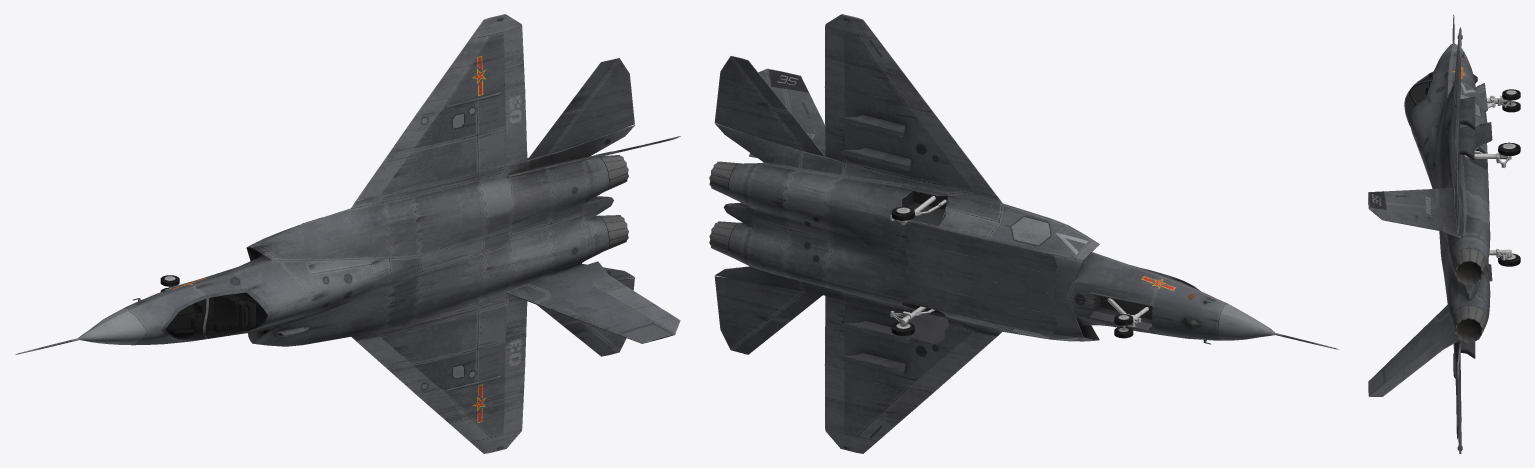
Rendered from shenyang_j-35.fbx.
3 views of the same model, side by side, from view 1: azimuth 30°, elevation 25°; view 2: azimuth 150°, elevation 25°; view 3: azimuth 270°, elevation 25° (orthographic). The views are drawn at different scales.
Parts seen in each view (by area): view 1: J35_Hull_LOD0_34_71, J35_Back_Wing_R_LOD0_28_59, J35_Wing_R_LOD0_21_45, J35_Wing_L_LOD0_16_35, J35_Glass_LOD0_23_49, J35_Slats_R_LOD0_17_37, J35_Slats_L_LOD0_1_5, J35_Back_Wing_L_LOD0_19_41, J35_Flaps_R_01_LOD0_11_25, J35_Driver_L_LOD0_24_51, J35_Flaps_L_01_LOD0_32_67, J35_Flaps_R_02_LOD0_3_9 (+4 smaller); view 2: J35_Hull_LOD0_34_71, J35_Back_Wing_R_LOD0_28_59, J35_Back_Wing_L_LOD0_19_41, J35_Wing_R_LOD0_21_45, J35_Wing_L_LOD0_16_35, J35_Hatch_R_02_LOD0_13_29, J35_Hatch_L_02_LOD0_18_39, J35_Hatch_L_03_LOD0_27_57, J35_Hatch_R_03_LOD0_31_65, J35_Slats_R_LOD0_17_37, J35_Slats_L_LOD0_1_5, J35_Flaps_L_01_LOD0_32_67 (+6 smaller); view 3: J35_Hull_LOD0_34_71, J35_Engine_L_LOD0.001_33_69, J35_Engine_R_LOD0.001_7_17, J35_Driver_L_LOD0_24_51, J35_Driver_R_LOD0_8_19, J35_Glass_LOD0_23_49, J35_Hatch_R_04_LOD0_0_3, J35_Chassis_Front_Wheel_F_01_LOD0_9_21, J35_Frame_LOD0_6_15, J35_Wing_R_LOD0_21_45, J35_Chassis_R_01_LOD0_2_7, J35_Flaps_R_01_LOD0_11_25 (+10 smaller).
Part boxes in pixels (<box>): J35_Hull_LOD0_34_71: <box>15,91,675,392</box>; J35_Back_Wing_R_LOD0_28_59: <box>527,58,634,159</box>; J35_Wing_R_LOD0_21_45: <box>415,14,521,115</box>; J35_Wing_L_LOD0_16_35: <box>416,376,521,453</box>; J35_Glass_LOD0_23_49: <box>165,292,267,339</box>; J35_Slats_R_LOD0_17_37: <box>356,111,440,200</box>; J35_Slats_L_LOD0_1_5: <box>357,337,440,393</box>; J35_Back_Wing_L_LOD0_19_41: <box>537,278,634,356</box>; J35_Flaps_R_01_LOD0_11_25: <box>505,89,527,165</box>; J35_Driver_L_LOD0_24_51: <box>593,276,680,332</box>; J35_Flaps_L_01_LOD0_32_67: <box>505,299,527,372</box>; J35_Flaps_R_02_LOD0_3_9: <box>503,26,524,94</box>; J35_Hull_LOD0_34_71: <box>714,68,1338,389</box>; J35_Back_Wing_R_LOD0_28_59: <box>714,56,824,156</box>; J35_Back_Wing_L_LOD0_19_41: <box>714,276,822,354</box>; J35_Wing_R_LOD0_21_45: <box>825,14,934,113</box>; J35_Wing_L_LOD0_16_35: <box>825,375,933,453</box>; J35_Hatch_R_02_LOD0_13_29: <box>904,241,1057,294</box>; J35_Hatch_L_02_LOD0_18_39: <box>904,262,1057,314</box>; J35_Hatch_L_03_LOD0_27_57: <box>905,282,1057,333</box>; J35_Hatch_R_03_LOD0_31_65: <box>905,222,1057,273</box>; J35_Slats_R_LOD0_17_37: <box>910,109,996,195</box>; J35_Slats_L_LOD0_1_5: <box>910,332,996,391</box>; J35_Flaps_L_01_LOD0_32_67: <box>825,296,844,370</box>; J35_Hull_LOD0_34_71: <box>1368,14,1490,396</box>; J35_Engine_L_LOD0.001_33_69: <box>1452,305,1486,342</box>; J35_Engine_R_LOD0.001_7_17: <box>1452,248,1486,285</box>; J35_Driver_L_LOD0_24_51: <box>1370,341,1443,396</box>; J35_Driver_R_LOD0_8_19: <box>1370,209,1443,231</box>; J35_Glass_LOD0_23_49: <box>1404,72,1432,122</box>; J35_Hatch_R_04_LOD0_0_3: <box>1474,122,1492,150</box>; J35_Chassis_Front_Wheel_F_01_LOD0_9_21: <box>1502,89,1520,112</box>; J35_Frame_LOD0_6_15: <box>1408,71,1436,125</box>; J35_Wing_R_LOD0_21_45: <box>1454,27,1462,105</box>; J35_Chassis_R_01_LOD0_2_7: <box>1464,150,1511,167</box>; J35_Flaps_R_01_LOD0_11_25: <box>1453,113,1459,187</box>.
Bounding box in the file's own units: 0.0267 × 0.0176 × 0.00585.
Materials: 2 (1 with a texture image).
